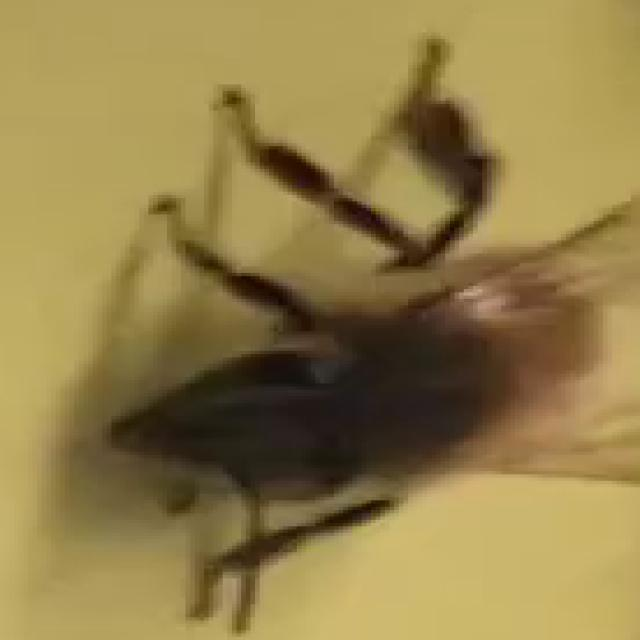honeybee: (139, 19, 640, 640)
